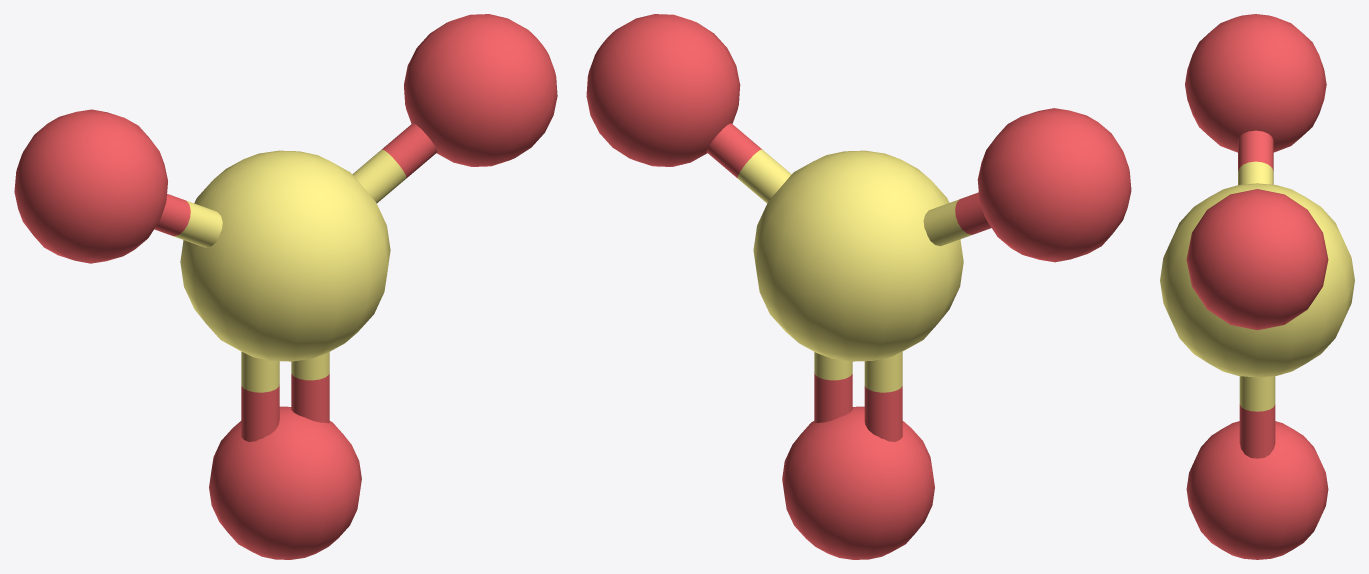
The model's file is 04_Trioxido-de-Azufre.fbx.
3 renders of one model, left to right at view 1: azimuth 30°, elevation 25°; view 2: azimuth 150°, elevation 25°; view 3: azimuth 270°, elevation 25°, orthographic. The views are drawn at different scales.
Parts seen in each view (by area): view 1: m_trioxidodeA; view 2: m_trioxidodeA; view 3: m_trioxidodeA.
Part boxes in pixels (x1,y1,x2,y2): m_trioxidodeA: (14,14,557,559); m_trioxidodeA: (586,14,1131,559); m_trioxidodeA: (1160,14,1354,559).
Bounding box in the file's own units: 628 × 555 × 220.
